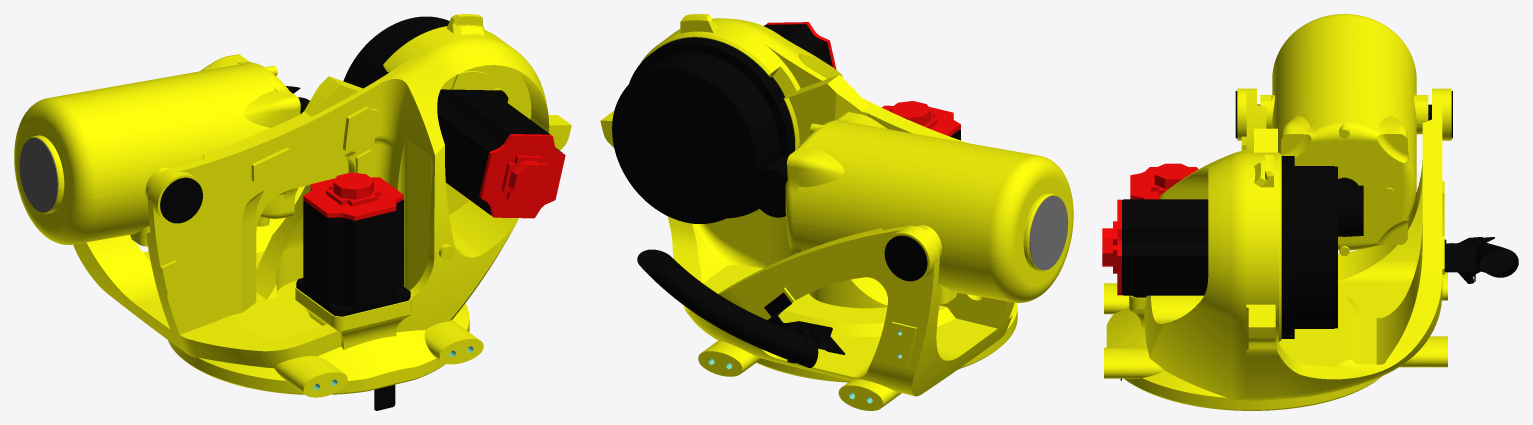
The picture shows the model from 3 angles, left to right: view 1: azimuth 30°, elevation 25°; view 2: azimuth 150°, elevation 25°; view 3: azimuth 270°, elevation 25°; orthographic projection. The views are drawn at different scales.
Parts seen in each view (by area): view 1: Mesh_0; view 2: Mesh_0; view 3: Mesh_0.
Boxes of the visible parts, bbox=[...] form: Mesh_0: bbox=[14, 14, 571, 410]; Mesh_0: bbox=[600, 14, 1073, 410]; Mesh_0: bbox=[1102, 14, 1518, 410].
Bounding box in the file's own units: 1.11 × 0.8478 × 0.6566.
